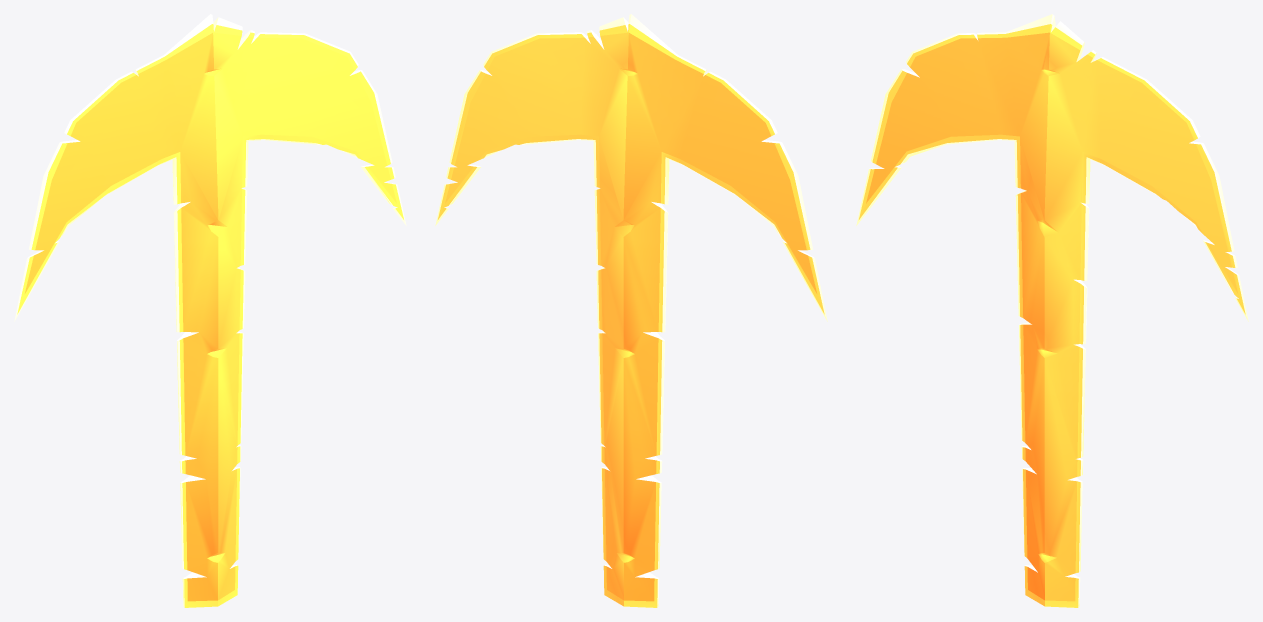
Rendered from gold_blade_scratched_050.glb.
The picture shows the model from 3 angles, left to right: view 1: azimuth 30°, elevation 25°; view 2: azimuth 150°, elevation 25°; view 3: azimuth 330°, elevation 25°; orthographic projection.
Visible parts, largest first — view 1: gold_blade_scratched.050; view 2: gold_blade_scratched.050; view 3: gold_blade_scratched.050.
Part boxes in pixels (<box>): gold_blade_scratched.050: <box>14,14,406,607</box>; gold_blade_scratched.050: <box>435,14,827,607</box>; gold_blade_scratched.050: <box>856,14,1248,607</box>.
Size of the model in its own units: 8.24 by 11.78 by 0.5822.
Materials: 1 (1 with a texture image).
